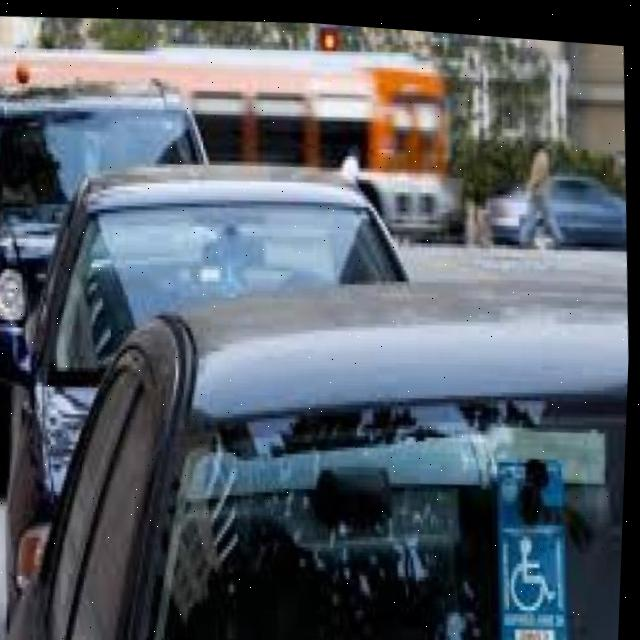symbol_of_access: (511, 525, 567, 608)
